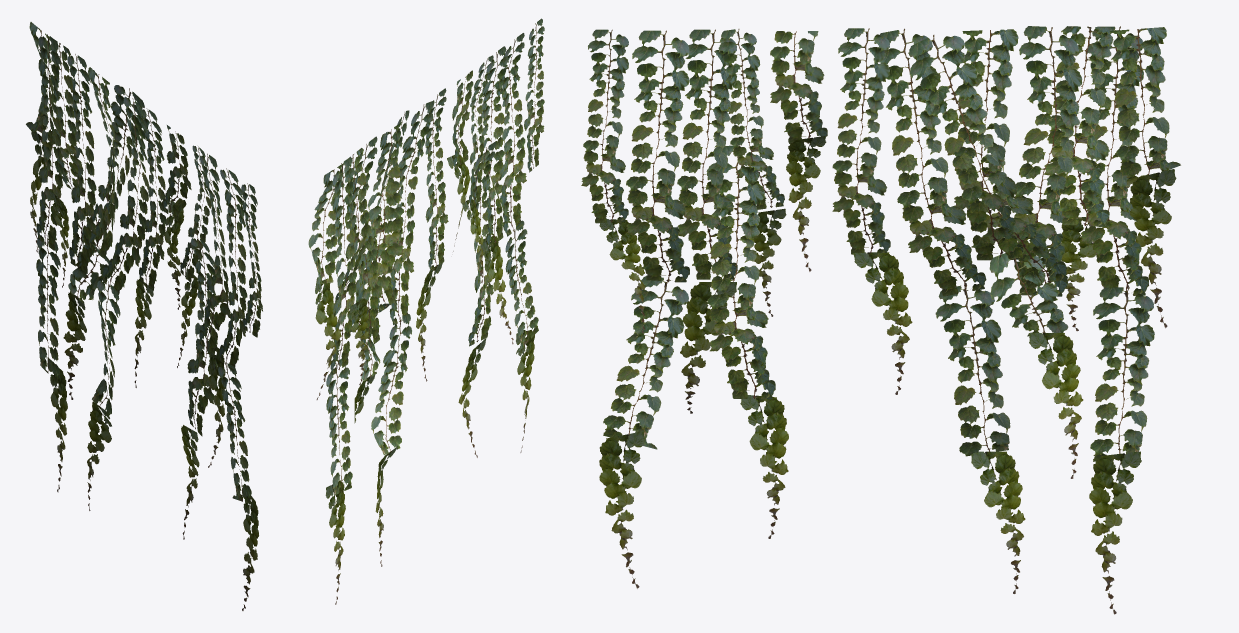
File: Wall Ivy.fbx
3 views of the same model, side by side, from view 1: azimuth 30°, elevation 25°; view 2: azimuth 150°, elevation 25°; view 3: azimuth 270°, elevation 25° (orthographic). The views are drawn at different scales.
Visible parts, largest first — view 1: Wall Ivy.016; view 2: Wall Ivy.016; view 3: Wall Ivy.016.
Boxes of the visible parts, x1,y1,x2,y2 form: Wall Ivy.016: [26, 22, 262, 610]; Wall Ivy.016: [308, 18, 544, 604]; Wall Ivy.016: [581, 26, 1180, 614].
Bounding box in the file's own units: 39.69 × 489 × 478.
